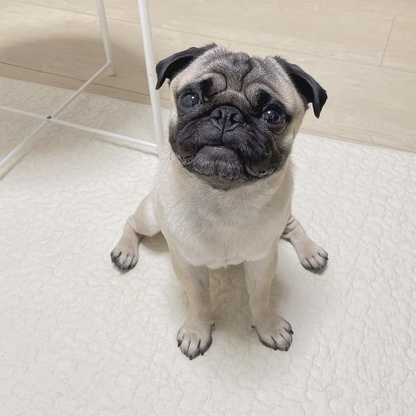Pug: (107, 38, 333, 363)
